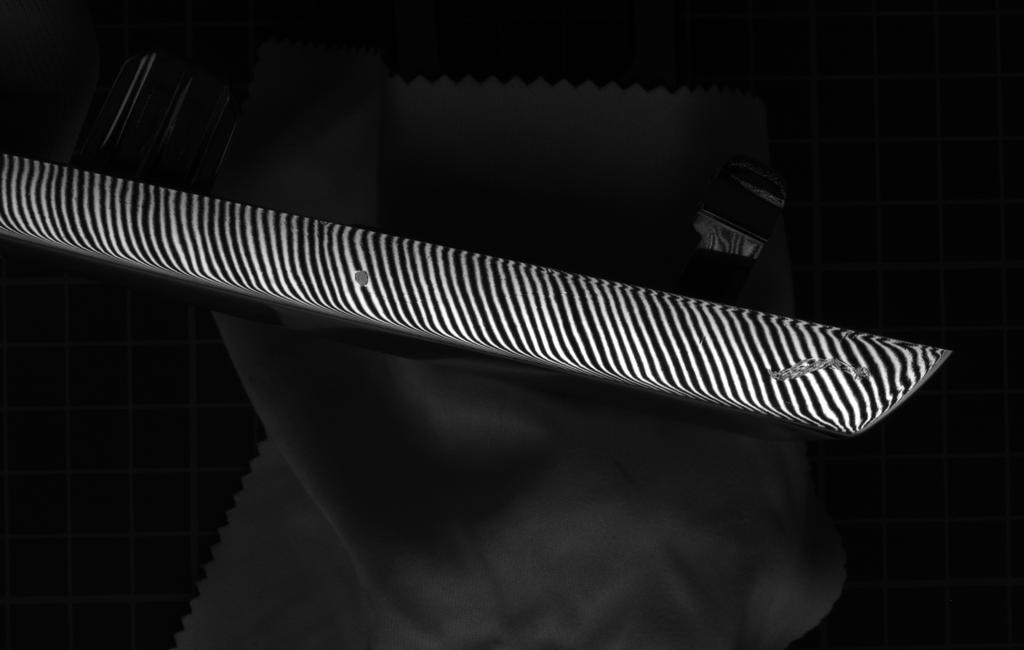Pierced: (348, 264, 379, 291)
Scratch: (754, 352, 885, 386)
